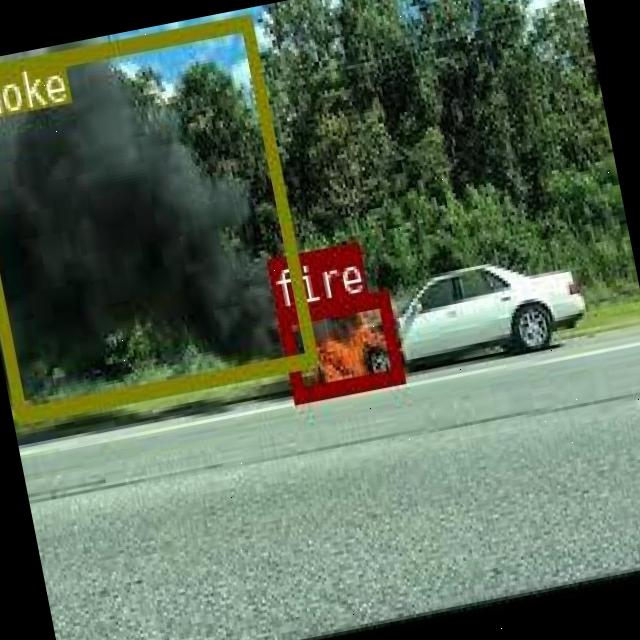fire: (276, 290, 402, 400)
smoke: (0, 12, 315, 420)
